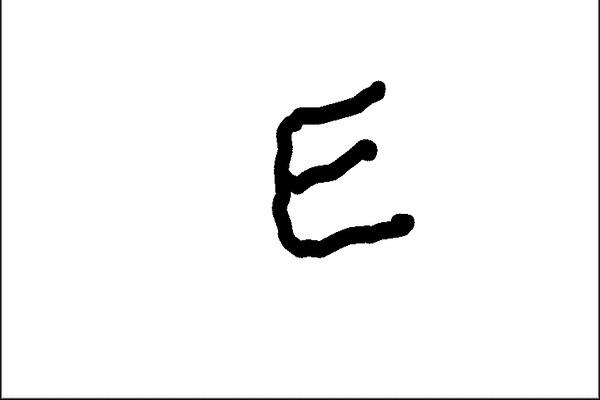E: (264, 70, 418, 264)
